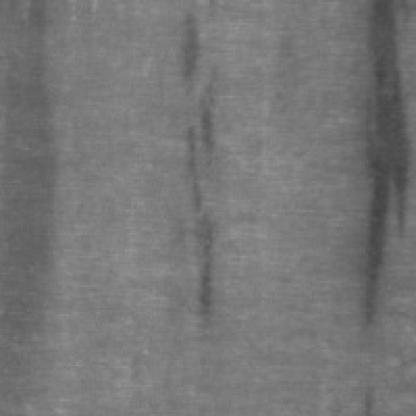inclusion: (347, 2, 412, 339), (0, 10, 62, 343), (172, 58, 222, 337), (170, 6, 198, 94)
